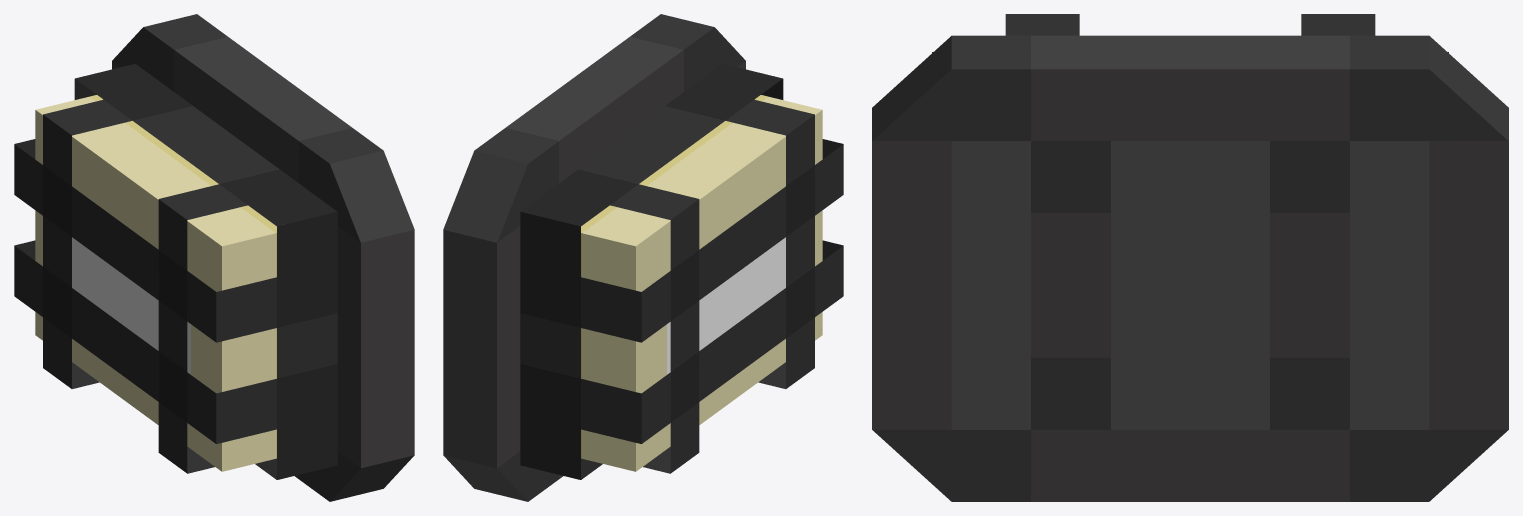
File: spotlight_incandescent_west.obj
3 views of the same model, side by side, from view 1: azimuth 30°, elevation 25°; view 2: azimuth 150°, elevation 25°; view 3: azimuth 270°, elevation 25° (orthographic). The views are drawn at different scales.
Parts seen in each view (by area): view 1: CageLamp; view 2: CageLamp; view 3: CageLamp.
Boxes of the visible parts, box(x1,y1,x2,y2) form: CageLamp: box(14, 14, 414, 501); CageLamp: box(443, 14, 843, 501); CageLamp: box(872, 14, 1508, 501).
Size of the model in its own units: 0.2031 by 0.375 by 0.5.
